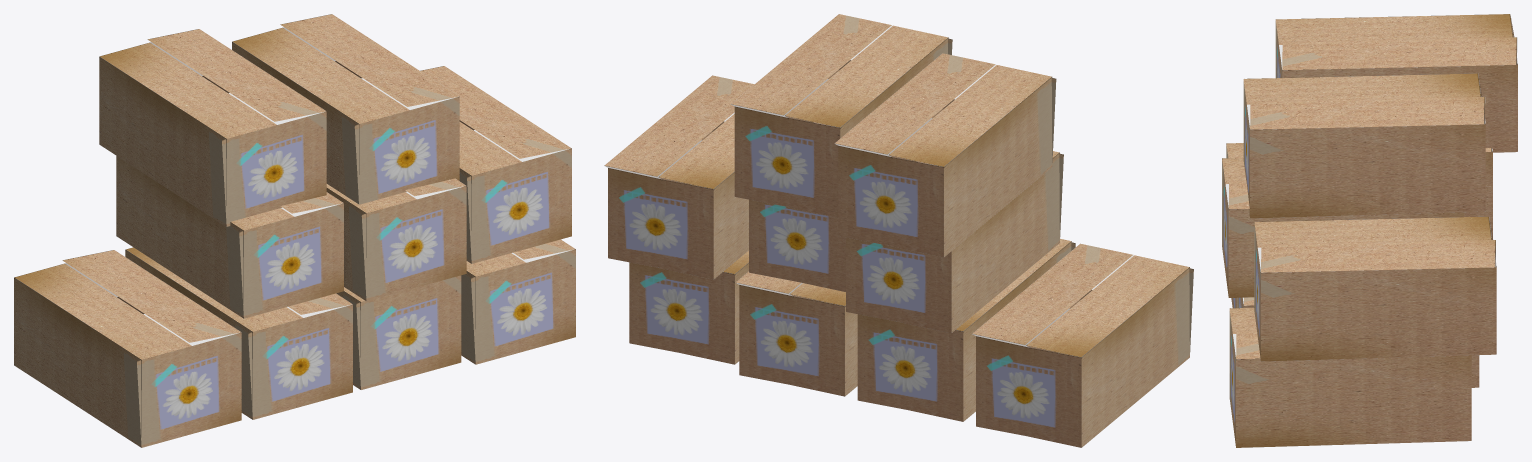
The model's file is cajas_margaritas.glb.
The picture shows the model from 3 angles, left to right: view 1: azimuth 30°, elevation 25°; view 2: azimuth 150°, elevation 25°; view 3: azimuth 270°, elevation 25°; orthographic projection. The views are drawn at different scales.
Visible parts, largest first — view 1: Cube.008, Cube.003, Cube.007, Cube.004, Cube.002, Cube, Cube.005, Cube.006, Cube.001; view 2: Cube.003, Cube.008, Cube.007, Cube.002, Cube.004, Cube, Cube.001, Cube.006, Cube.005; view 3: Cube.002, Cube.007, Cube.006, Cube.003, Cube.005, Cube.004, Cube.001.
Part boxes in pixels (left/top/right/bottom): Cube.008: left=14, top=250, right=241, bottom=447; Cube.003: left=99, top=29, right=326, bottom=226; Cube.007: left=232, top=14, right=459, bottom=204; Cube.004: left=116, top=156, right=343, bottom=318; Cube.002: left=420, top=66, right=571, bottom=263; Cube: left=125, top=247, right=352, bottom=419; Cube.005: left=326, top=178, right=466, bottom=301; Cube.006: left=461, top=239, right=575, bottom=364; Cube.001: left=336, top=275, right=461, bottom=389; Cube.003: left=834, top=53, right=1056, bottom=257; Cube.008: left=972, top=243, right=1193, bottom=447; Cube.007: left=731, top=14, right=952, bottom=217; Cube.002: left=604, top=75, right=754, bottom=279; Cube.004: left=846, top=151, right=1063, bottom=333; Cube: left=857, top=238, right=1075, bottom=421; Cube.001: left=735, top=271, right=857, bottom=396; Cube.006: left=629, top=250, right=748, bottom=364; Cube.005: left=749, top=122, right=845, bottom=291; Cube.002: left=1254, top=216, right=1496, bottom=361; Cube.007: left=1243, top=73, right=1485, bottom=218; Cube.006: left=1229, top=308, right=1471, bottom=447; Cube.003: left=1275, top=14, right=1517, bottom=152; Cube.005: left=1222, top=158, right=1464, bottom=297; Cube.004: left=1464, top=148, right=1492, bottom=237; Cube.001: left=1237, top=297, right=1479, bottom=387.
Bounding box in the file's own units: 4.73 × 2.64 × 2.62.
Materials: 3 (3 with a texture image).
